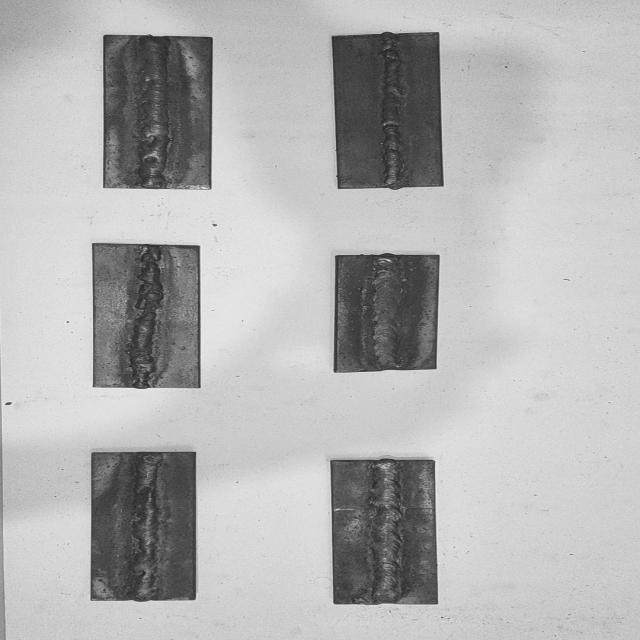Good Weld: (130, 453, 162, 598), (141, 37, 169, 189), (371, 462, 401, 603), (129, 245, 158, 386), (379, 35, 405, 187), (374, 256, 402, 370)
